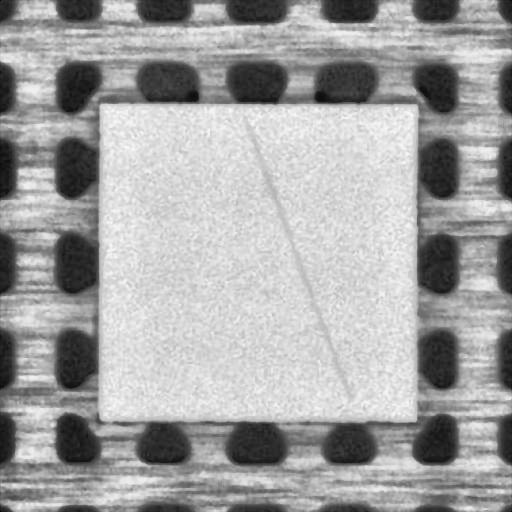DIE_CRACK: (243, 117, 349, 398)
